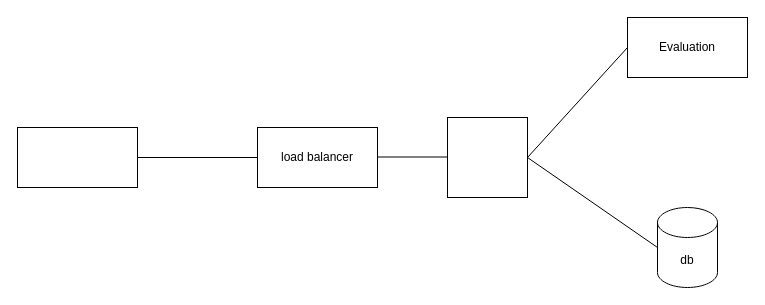
The diagram is 765 pixels wide and 305 high, and some of its shapes have lost their labels. Each missing label, with the centre of its shape:
front end: (x=77, y=157)
server: (x=487, y=157)
